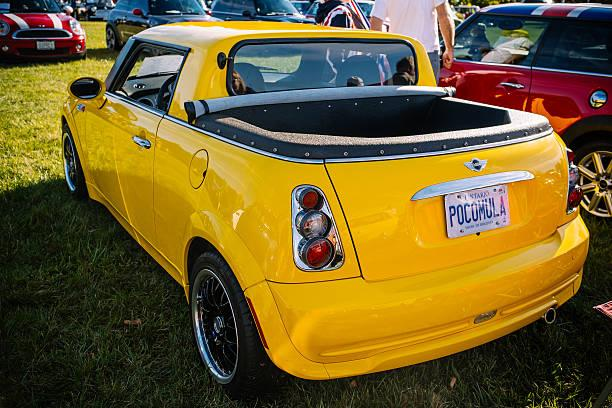licence: (431, 184, 516, 236)
